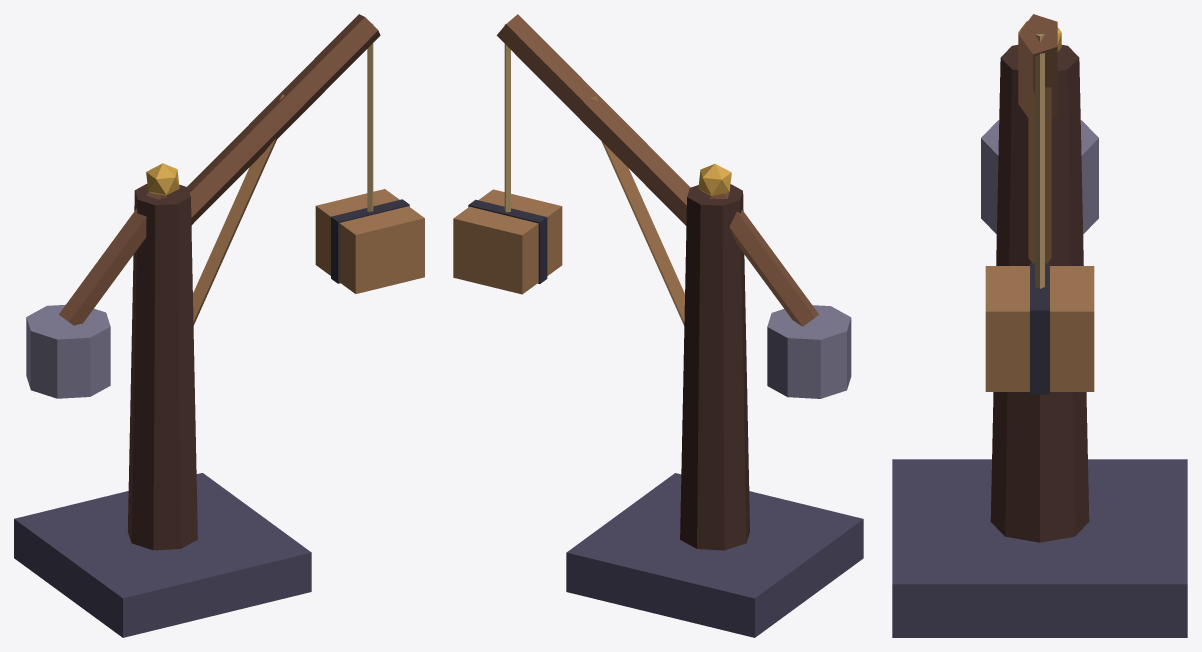
The model's file is Set_Crane.fbx.
The picture shows the model from 3 angles, left to right: view 1: azimuth 30°, elevation 25°; view 2: azimuth 150°, elevation 25°; view 3: azimuth 270°, elevation 25°; orthographic projection. The views are drawn at different scales.
Parts seen in each view (by area): view 1: Set_Crane; view 2: Set_Crane; view 3: Set_Crane.
Part boxes in pixels (left/top/right/bottom): Set_Crane: left=14, top=14, right=424, bottom=637; Set_Crane: left=453, top=14, right=863, bottom=637; Set_Crane: left=892, top=14, right=1187, bottom=637.
Size of what is drawn, in the model's own units: 5.97 by 7.77 by 3.
Materials: 1 (1 with a texture image).
